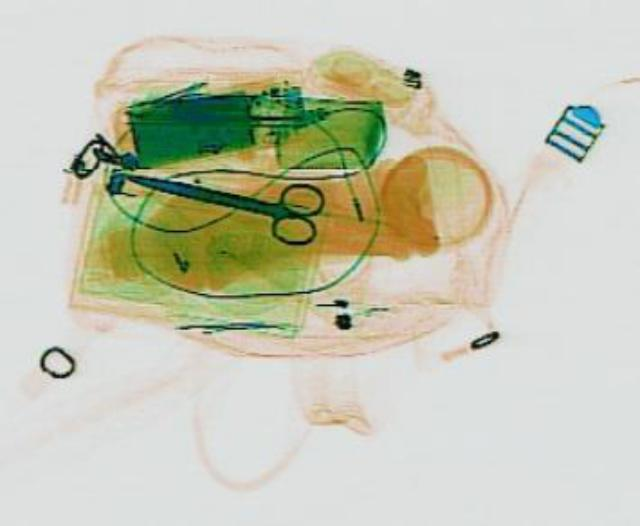Scissors: (113, 145, 330, 246)
